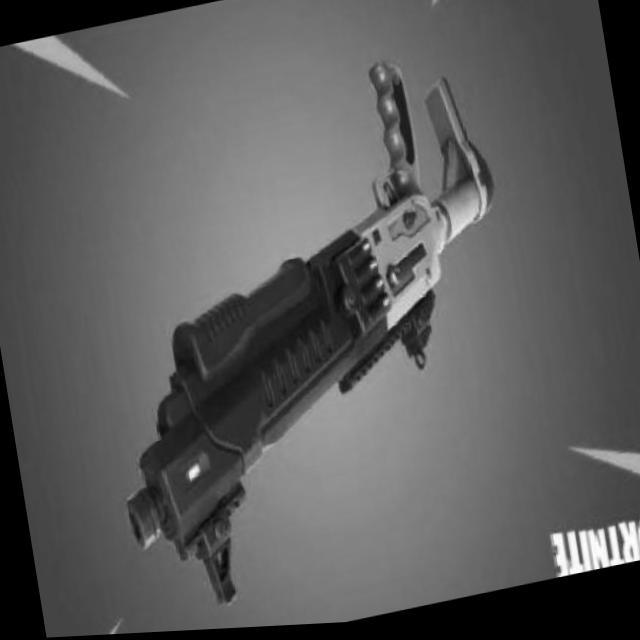weapon: (62, 40, 550, 627)
